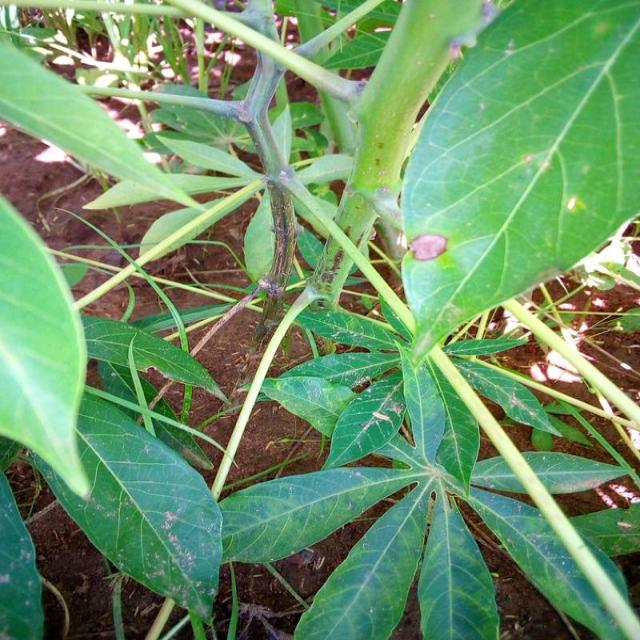cassava leaf: (0, 0, 638, 638), (398, 0, 638, 366), (30, 383, 223, 624), (0, 191, 91, 498)
